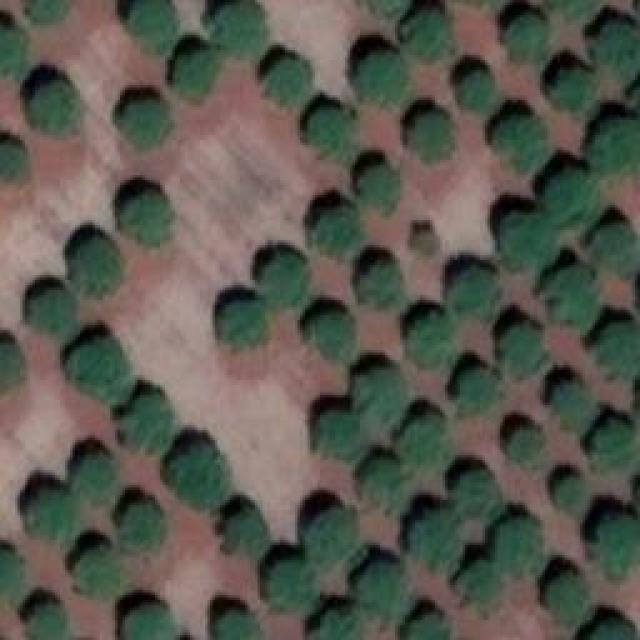Tree: (160, 438, 235, 508), (63, 335, 133, 400), (350, 563, 413, 626), (117, 393, 175, 458), (65, 238, 123, 298), (495, 210, 555, 268), (545, 265, 600, 328), (353, 368, 406, 433), (67, 542, 125, 600), (120, 187, 175, 245), (400, 7, 455, 65), (307, 503, 365, 558), (23, 488, 76, 548), (490, 515, 543, 575), (28, 77, 81, 135), (545, 165, 598, 223), (595, 510, 640, 573), (310, 105, 363, 158), (260, 253, 313, 306), (393, 413, 446, 466), (212, 0, 265, 52), (115, 95, 165, 150), (128, 0, 181, 50), (497, 320, 545, 375), (415, 508, 463, 563), (120, 497, 165, 555), (312, 208, 360, 261), (405, 315, 453, 368), (267, 555, 315, 608), (592, 123, 640, 176), (498, 113, 543, 168), (447, 268, 495, 318), (503, 15, 548, 68), (555, 380, 600, 433), (597, 417, 640, 472), (598, 17, 638, 75), (122, 600, 180, 640), (357, 52, 405, 100), (173, 50, 216, 103), (265, 60, 310, 110), (70, 455, 115, 505), (35, 290, 83, 335), (413, 112, 458, 160), (223, 295, 268, 343), (315, 308, 358, 358), (225, 505, 268, 555), (597, 222, 640, 272), (597, 322, 640, 372), (458, 560, 498, 613), (360, 160, 398, 215), (458, 365, 501, 413), (355, 260, 400, 305), (460, 470, 500, 518), (365, 458, 403, 508), (315, 413, 360, 453), (25, 600, 70, 640), (312, 607, 362, 640), (548, 573, 583, 618), (217, 607, 262, 640), (0, 550, 28, 603), (552, 475, 590, 513), (0, 140, 30, 188), (555, 64, 590, 105), (0, 342, 28, 390), (460, 70, 493, 110), (585, 617, 640, 640), (510, 430, 548, 463), (410, 610, 450, 640), (0, 25, 22, 72), (360, 0, 408, 20), (30, 0, 70, 20)
